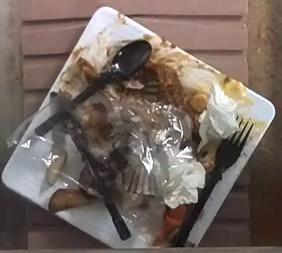potato: (48, 188, 88, 212)
unknown: (135, 61, 209, 121)
